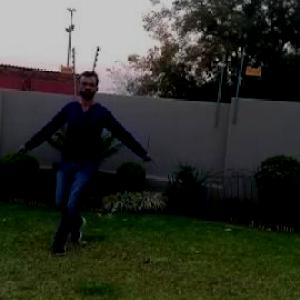land: (20, 74, 144, 246)
